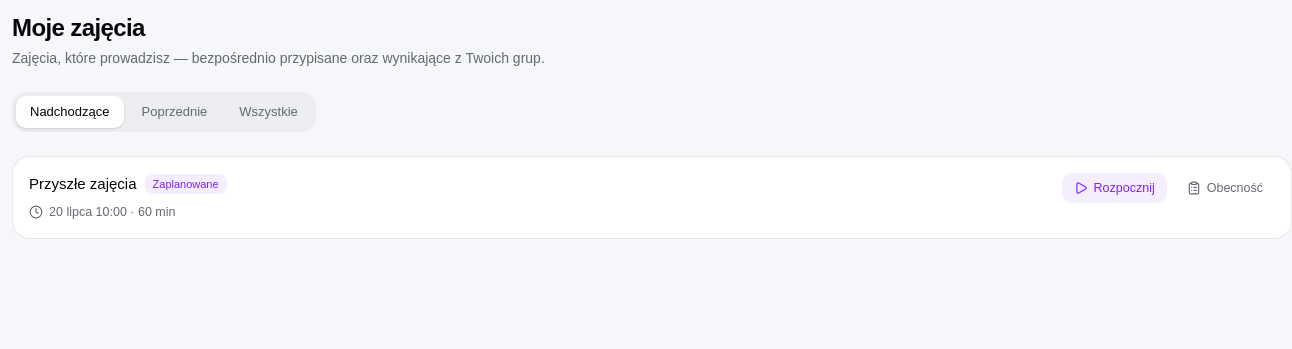
TeacherClassesPage › podział na zakładki › „Poprzednie" pokazuje minione oraz zakończone
Click the button "Poprzednie".
click(174, 112)  # box [128,96,221,128]
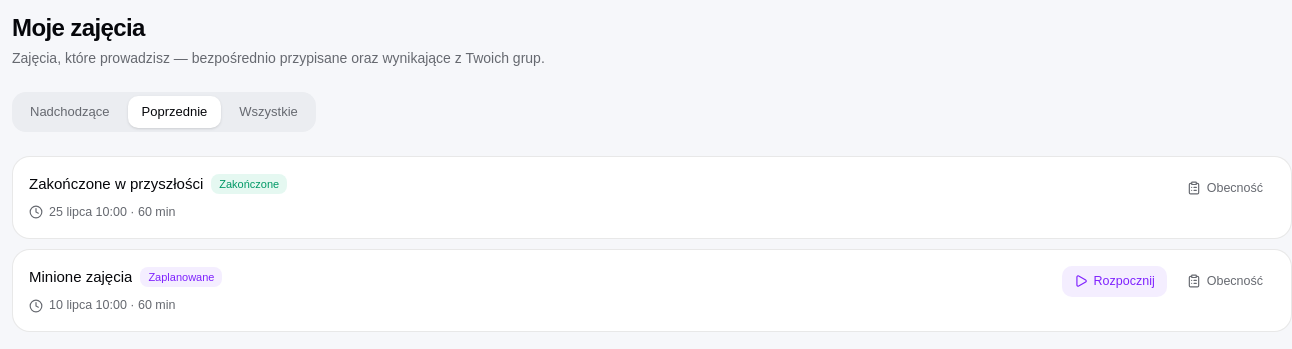
Now the heading "Minione zajęcia" is shown, box [29,266,132,288]
Now the heading "Zakończone w przyszłości" is shown, box [29,172,203,195]
Now the heading "Przyszłe zajęcia" is gone
